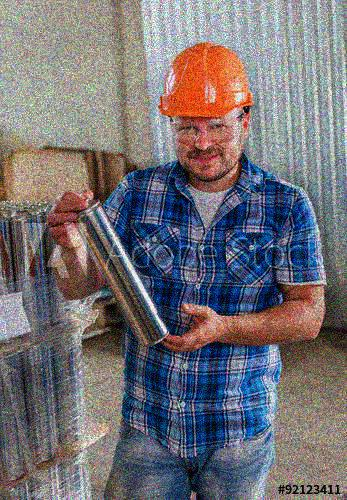helmet: (156, 43, 255, 181)
